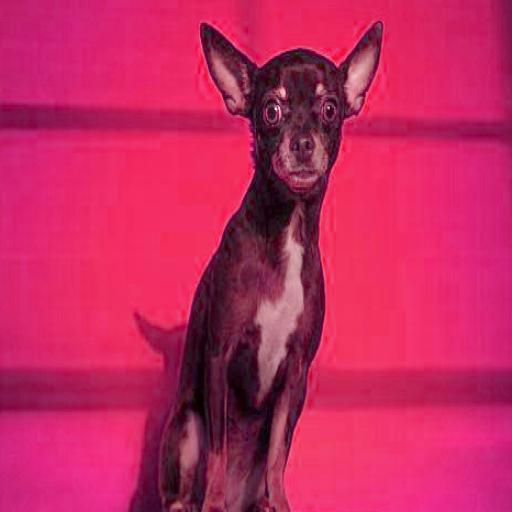dog_face: (192, 9, 389, 185)
